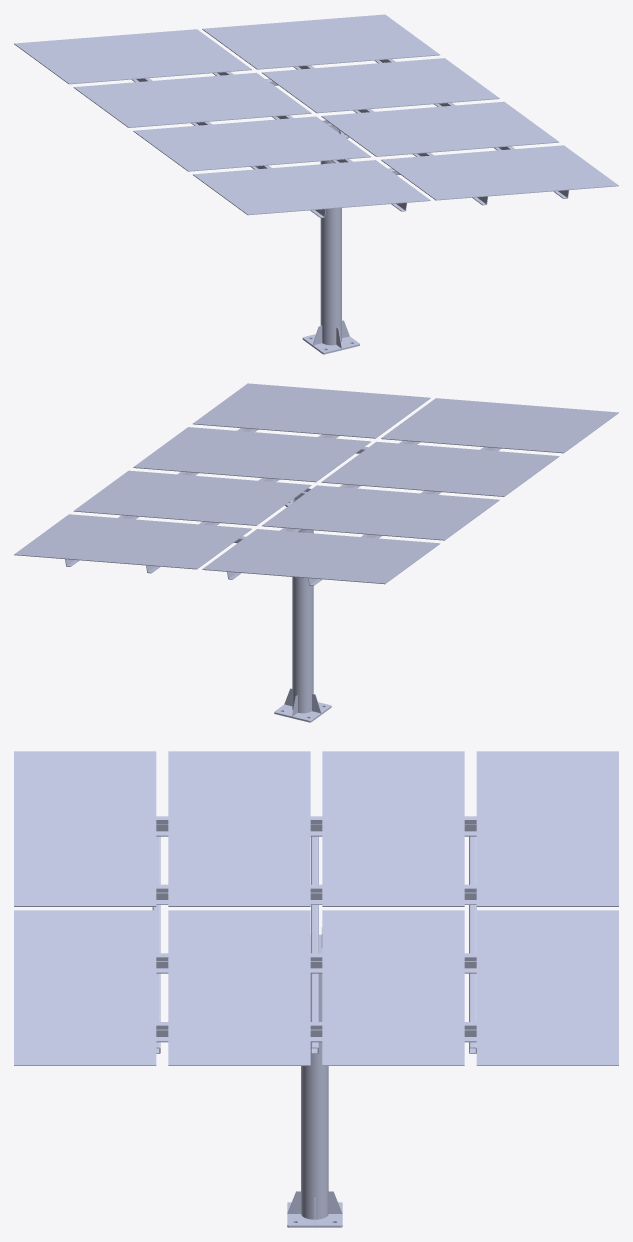
The model's file is solar_structure.glb.
3 renders of one model, top to bottom at view 1: azimuth 30°, elevation 25°; view 2: azimuth 150°, elevation 25°; view 3: azimuth 270°, elevation 25°, orthographic. The views are drawn at different scales.
Visible parts, largest first — view 1: Single Pole Solar Structure; view 2: Single Pole Solar Structure; view 3: Single Pole Solar Structure.
Part boxes in pixels (left/top/right/bottom): Single Pole Solar Structure: left=14, top=14, right=618, bottom=354; Single Pole Solar Structure: left=14, top=383, right=618, bottom=722; Single Pole Solar Structure: left=14, top=751, right=618, bottom=1227.
Size of the model in its own units: 2.81 by 1.89 by 3.06.
